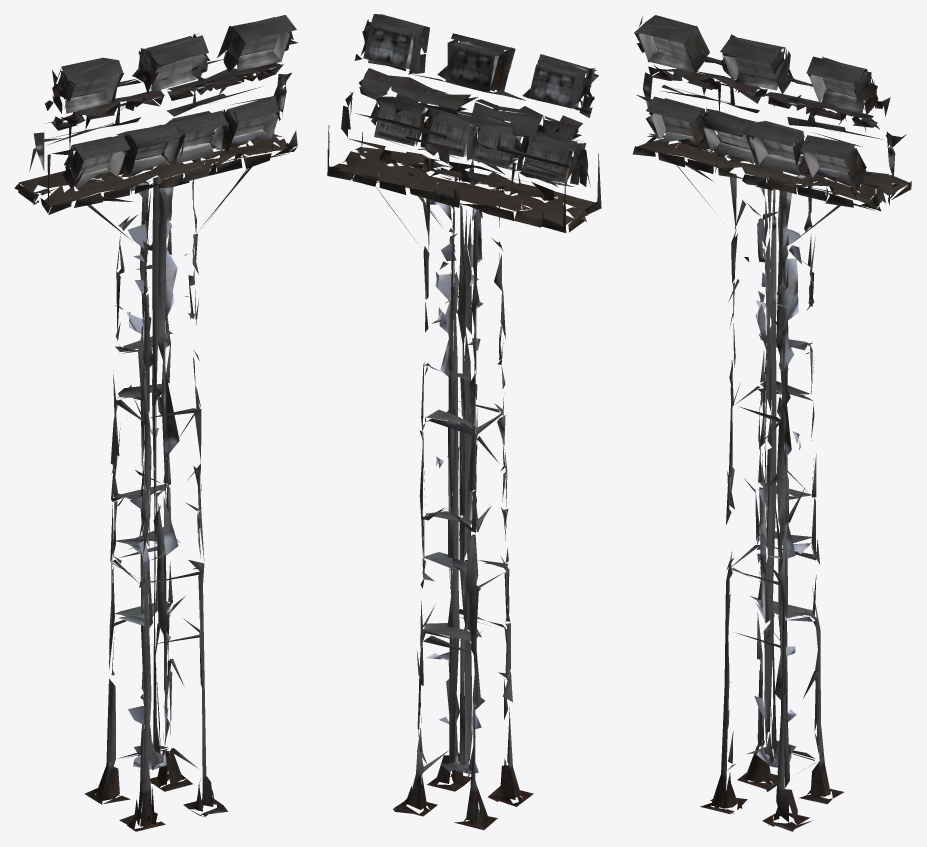
File: drift_flutlicht.glb
The picture shows the model from 3 angles, left to right: view 1: azimuth 30°, elevation 25°; view 2: azimuth 150°, elevation 25°; view 3: azimuth 330°, elevation 25°; orthographic projection. The views are drawn at different scales.
Parts seen in each view (by area): view 1: Prop; view 2: Prop; view 3: Prop.
Boxes of the visible parts, bbox=[...] form: Prop: bbox=[14, 15, 298, 831]; Prop: bbox=[327, 14, 601, 830]; Prop: bbox=[633, 15, 911, 831].
Bounding box in the file's own units: 0.3536 × 1 × 0.1278.
Materials: 1 (1 with a texture image).
